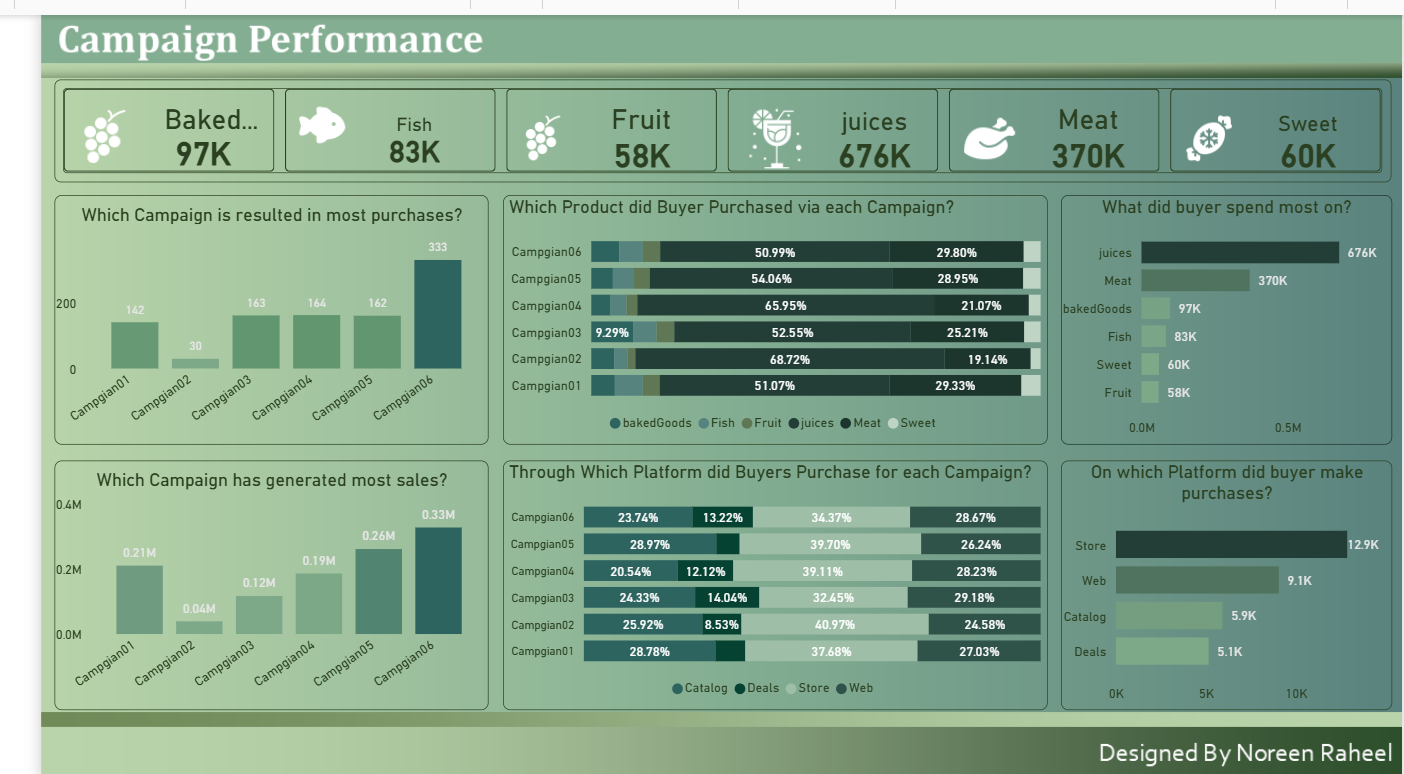

The page's visual inventory and layout, read from the dashboard file:
{"tool":"powerbi","page":{"name":"Campaign Performane","canvas":[1280,720],"ordinal":0},"visuals":[{"type":"columnChart","title":" Which Campaign is resulted in most purchases?","fields":{"Category":["365 Media Feathers Inc  Dataset (2).Campagian"],"Y":["Sum(365 Media Feathers Inc  Dataset (2).Value)"]},"box":[12.5,168.8,407.9,234.4],"z":0},{"type":"clusteredBarChart","title":"What did buyer spend most on?","fields":{"Category":["Total Sales.Product"],"Y":["Sum(Total Sales.Total Sale)"]},"box":[958.1,168.8,311,234.4],"z":1000},{"type":"columnChart","title":"Which Campaign has generated most sales?","fields":{"Category":["365 Media Feathers Inc  Dataset (2).Campagian"],"Y":["Sum(Total Sales.Total Sale)"]},"box":[12.5,418.9,407.9,234.4],"z":2000},{"type":"hundredPercentStackedBarChart","title":"Which Product did Buyer Purchased via each Campaign?","fields":{"Category":["Campgians.Campagian"],"Series":["Total Sales.Product"],"Y":["Sum(Total Sales.Total Sale)"]},"box":[434.7,168.5,511.9,234.7],"z":3000},{"type":"hundredPercentStackedBarChart","title":"Through Which Platform did Buyers Purchase for each Campaign?","fields":{"Category":["Campgians.Campagian"],"Series":["perform(marketing).Platform"],"Y":["Sum(perform(marketing).Value)"]},"box":[434.7,419,511.9,234.7],"z":4000},{"type":"clusteredBarChart","title":"On which Platform did buyer make purchases?","fields":{"Category":["perform(marketing).Platform"],"Y":["Sum(perform(marketing).Value)"]},"box":[958.1,418.9,311,234.4],"z":5000},{"type":"cardVisual","fields":{"Data":["Sum(Research Data.Amount-bakedGoods)","Sum(Research Data.Amount-Fish)","Sum(Research Data.Amount-Fruit)","Sum(Research Data.Amount-juices)","Sum(Research Data.Amount-Meat)","Sum(Research Data.Amount-Sweet)"]},"box":[12.5,61,1256.6,96.9],"z":6000}]}

Visuals, with their boxes in screenshot pixels (x1, y1, x2, y2), scaled from the page's 1280x720 canvas onto the 1404x774 screenshot:
" Which Campaign is resulted in most purchases?" columnChart: l=14, t=181, r=461, b=433
"What did buyer spend most on?" clusteredBarChart: l=1051, t=181, r=1392, b=433
"Which Campaign has generated most sales?" columnChart: l=14, t=450, r=461, b=702
"Which Product did Buyer Purchased via each Campaign?" hundredPercentStackedBarChart: l=477, t=181, r=1038, b=433
"Through Which Platform did Buyers Purchase for each Campaign?" hundredPercentStackedBarChart: l=477, t=450, r=1038, b=703
"On which Platform did buyer make purchases?" clusteredBarChart: l=1051, t=450, r=1392, b=702
cardVisual - Sum(Research Data.Amount-bakedGoods) x Sum(Research Data.Amount-Fish): l=14, t=66, r=1392, b=170
